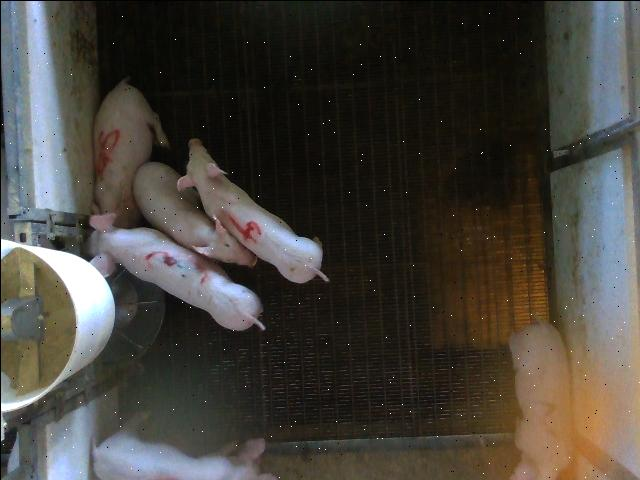pig-1: (91, 429, 276, 479)
pig-2: (509, 320, 571, 478)
pig-3: (82, 212, 264, 329)
pig-4: (178, 138, 329, 282)
pig-5: (94, 78, 169, 227)
